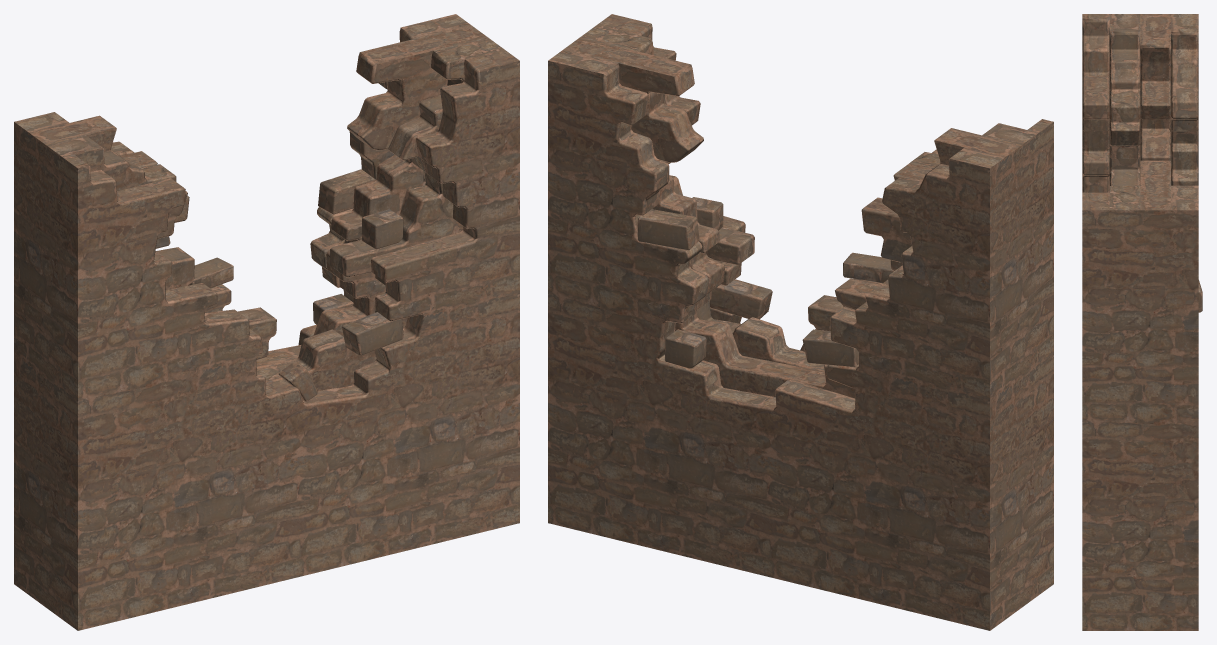
File: Wall_BrokenMiddle.fbx
The picture shows the model from 3 angles, left to right: view 1: azimuth 30°, elevation 25°; view 2: azimuth 150°, elevation 25°; view 3: azimuth 270°, elevation 25°; orthographic projection. The views are drawn at different scales.
Visible parts, largest first — view 1: Wall_BrokenMiddle_LOD0; view 2: Wall_BrokenMiddle_LOD0; view 3: Wall_BrokenMiddle_LOD0.
Part boxes in pixels (x1,y1,x2,y2): Wall_BrokenMiddle_LOD0: [14, 14, 519, 630]; Wall_BrokenMiddle_LOD0: [548, 14, 1053, 630]; Wall_BrokenMiddle_LOD0: [1082, 14, 1202, 630].
Size of what is drawn, in the model's own units: 400 by 400 by 104.
